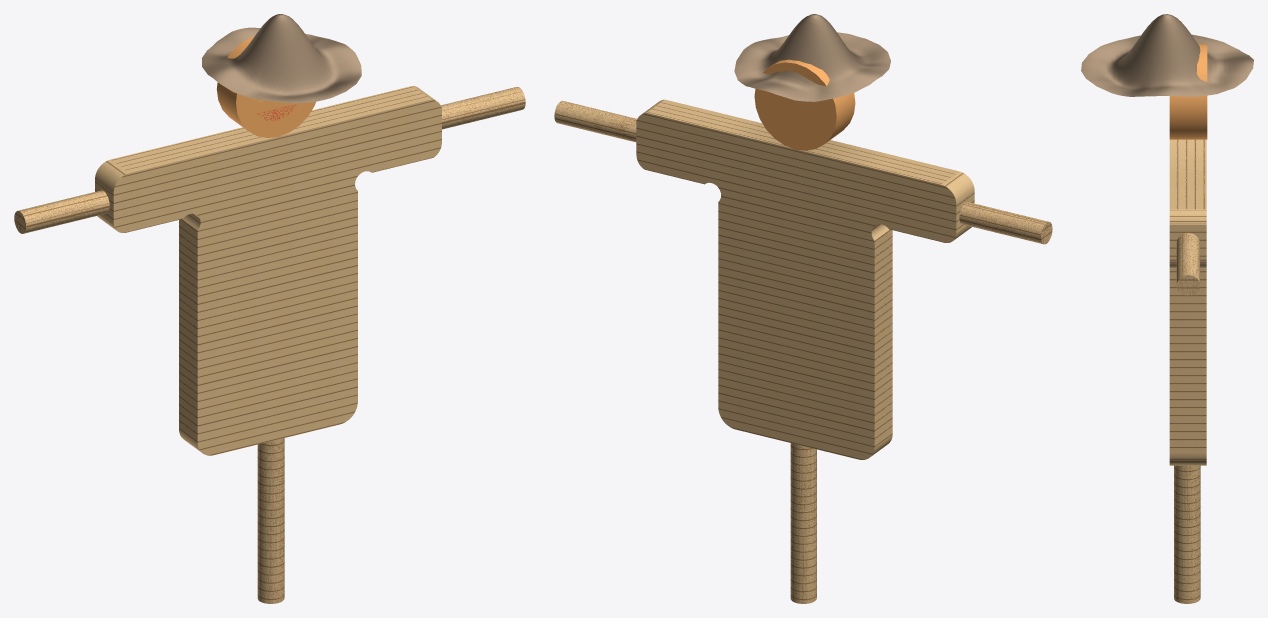
Rendered from scaressrow.fbx.
3 views of the same model, side by side, from view 1: azimuth 30°, elevation 25°; view 2: azimuth 150°, elevation 25°; view 3: azimuth 270°, elevation 25° (orthographic). The views are drawn at different scales.
Parts seen in each view (by area): view 1: Model, Group1; view 2: Model, Group1; view 3: Model, Group1.
Boxes of the visible parts, x1,y1,x2,y2 form: Model: (14, 36, 525, 603); Group1: (202, 14, 361, 103); Model: (554, 59, 1052, 603); Group1: (734, 14, 890, 101); Model: (1169, 44, 1207, 603); Group1: (1081, 14, 1253, 96).
Size of the model in its own units: 464 by 525 by 141.
